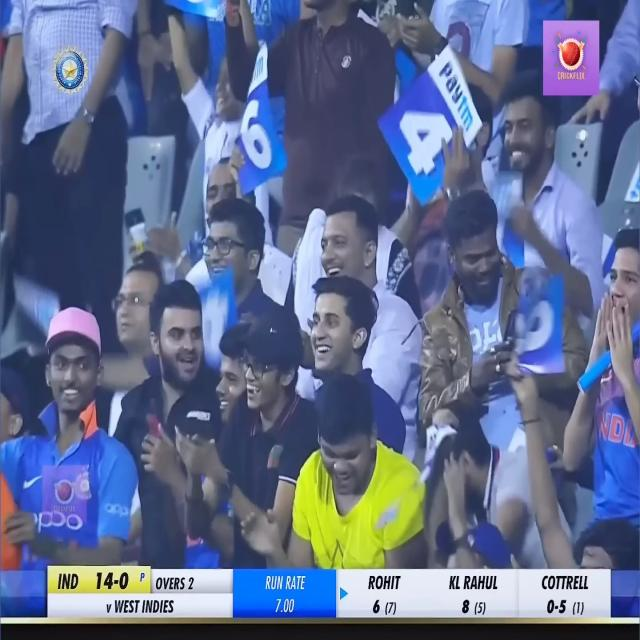fully_visible: (429, 45, 481, 139)
